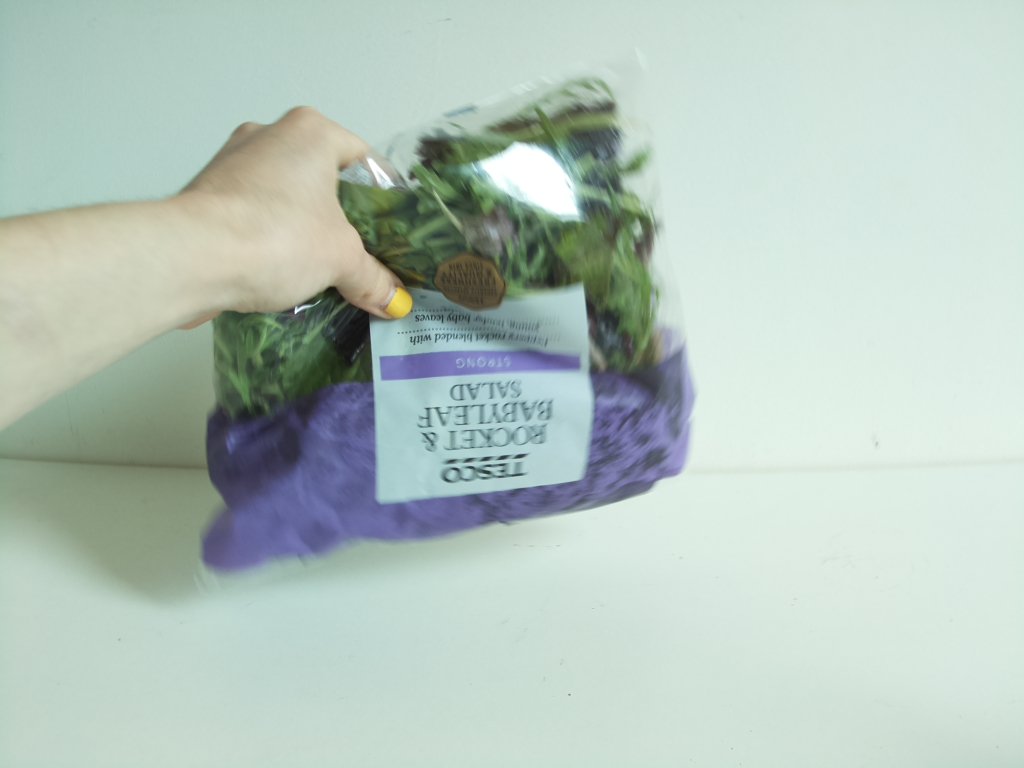salad: (208, 45, 703, 566)
